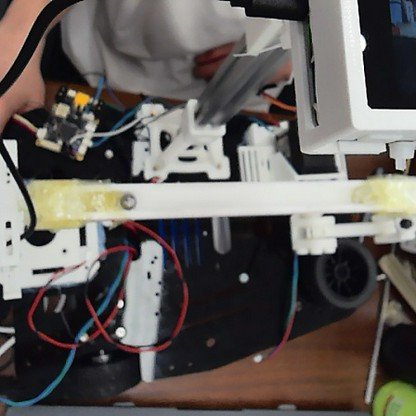ironball: (115, 187, 139, 210)
